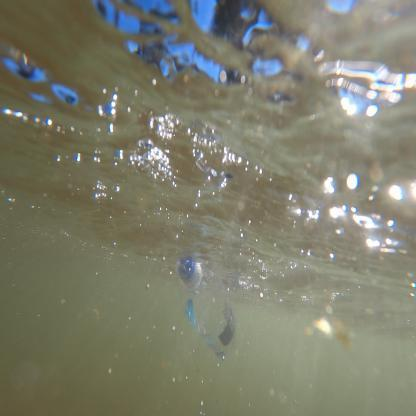Rác: (141, 255, 252, 392)
